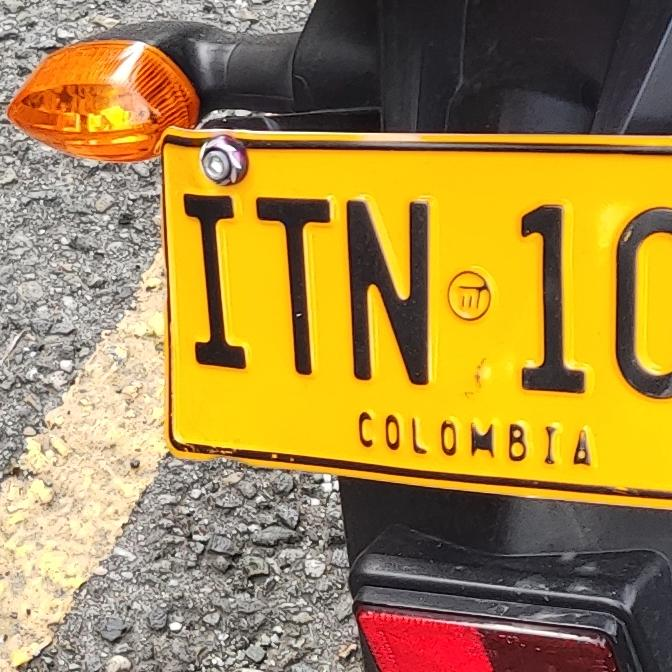plates: (155, 129, 672, 502)
